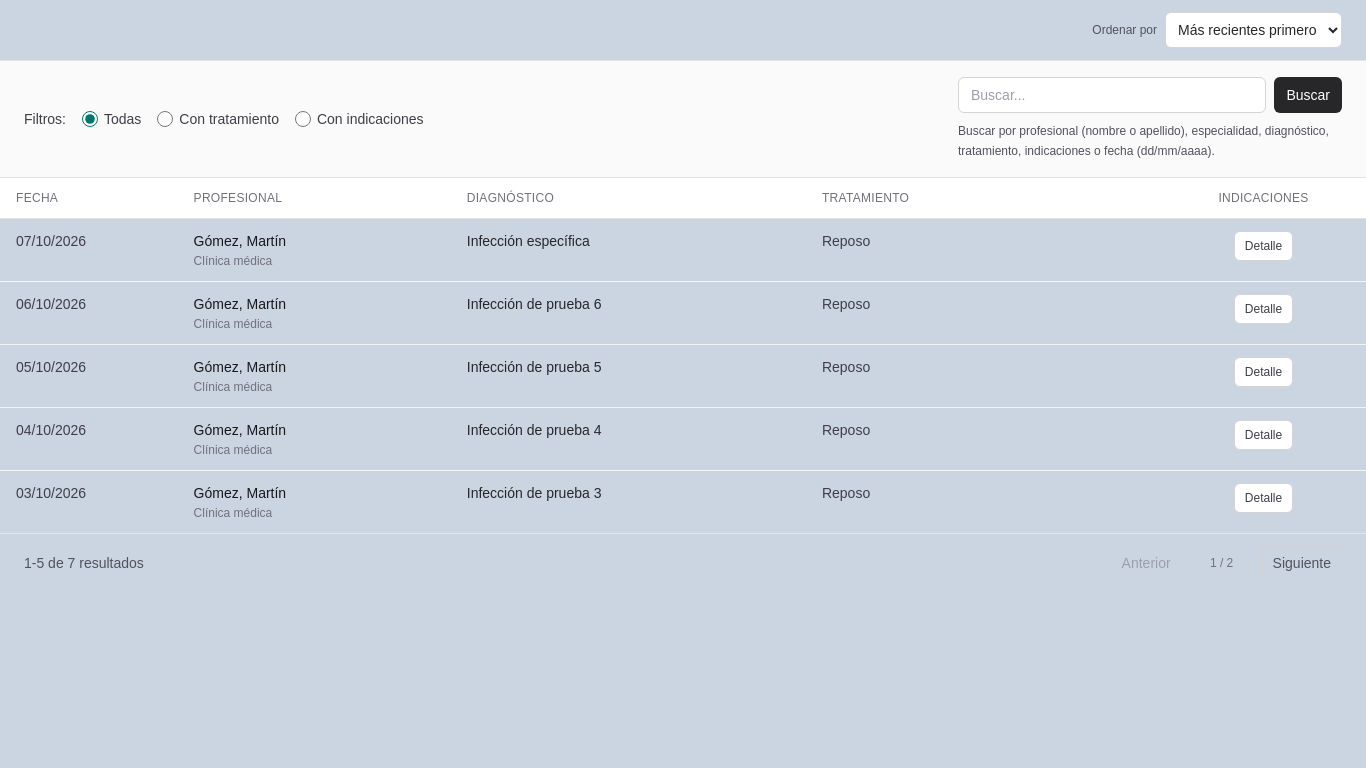
Scenario: SIG-BUG-02: resultados de búsqueda del historial › una búsqueda nueva vuelve a página 1 aunque solo quede un resultado
Click the button "Siguiente" at (1302, 563), box [1262,546,1342,580]
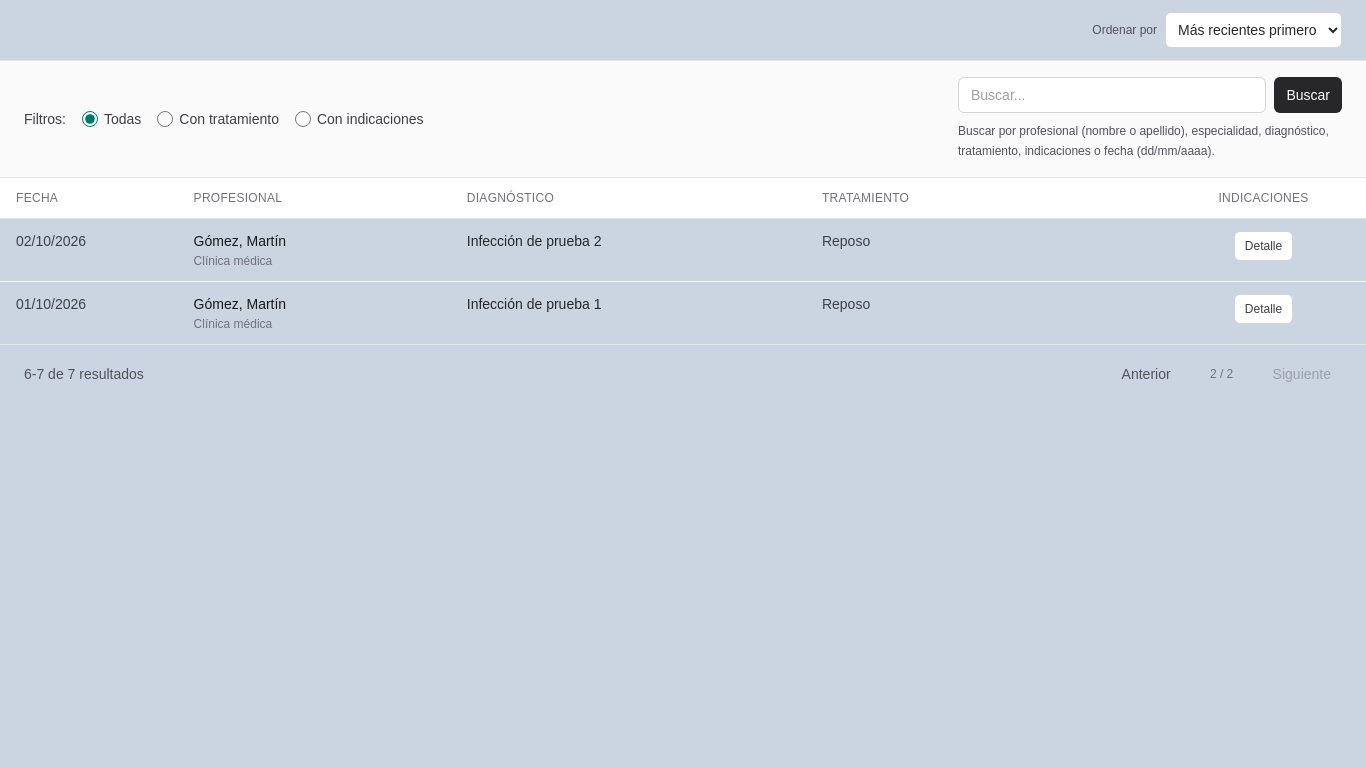
Type "infeccion especifica" into the search field at (1112, 95), box [958,77,1266,113]
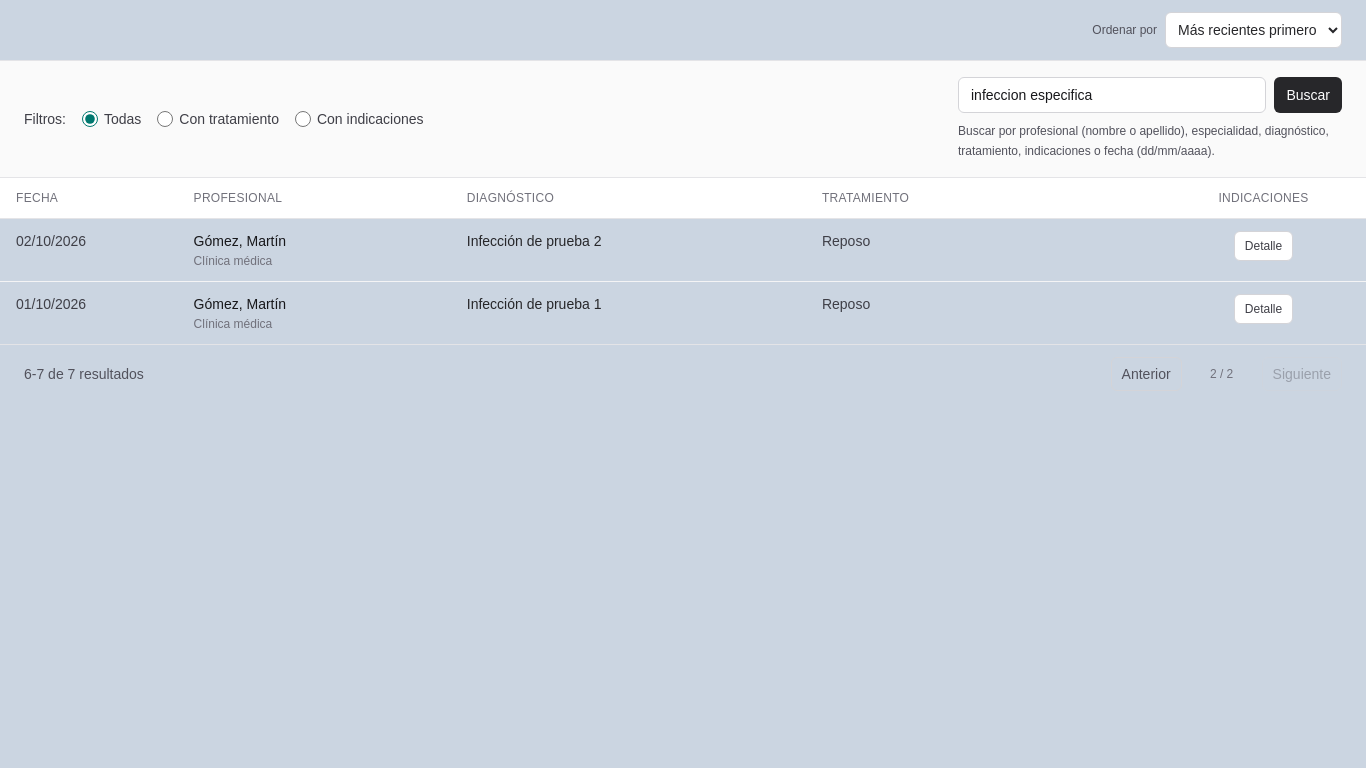
Click the button "Buscar" at (1308, 95), box [1274,77,1342,113]
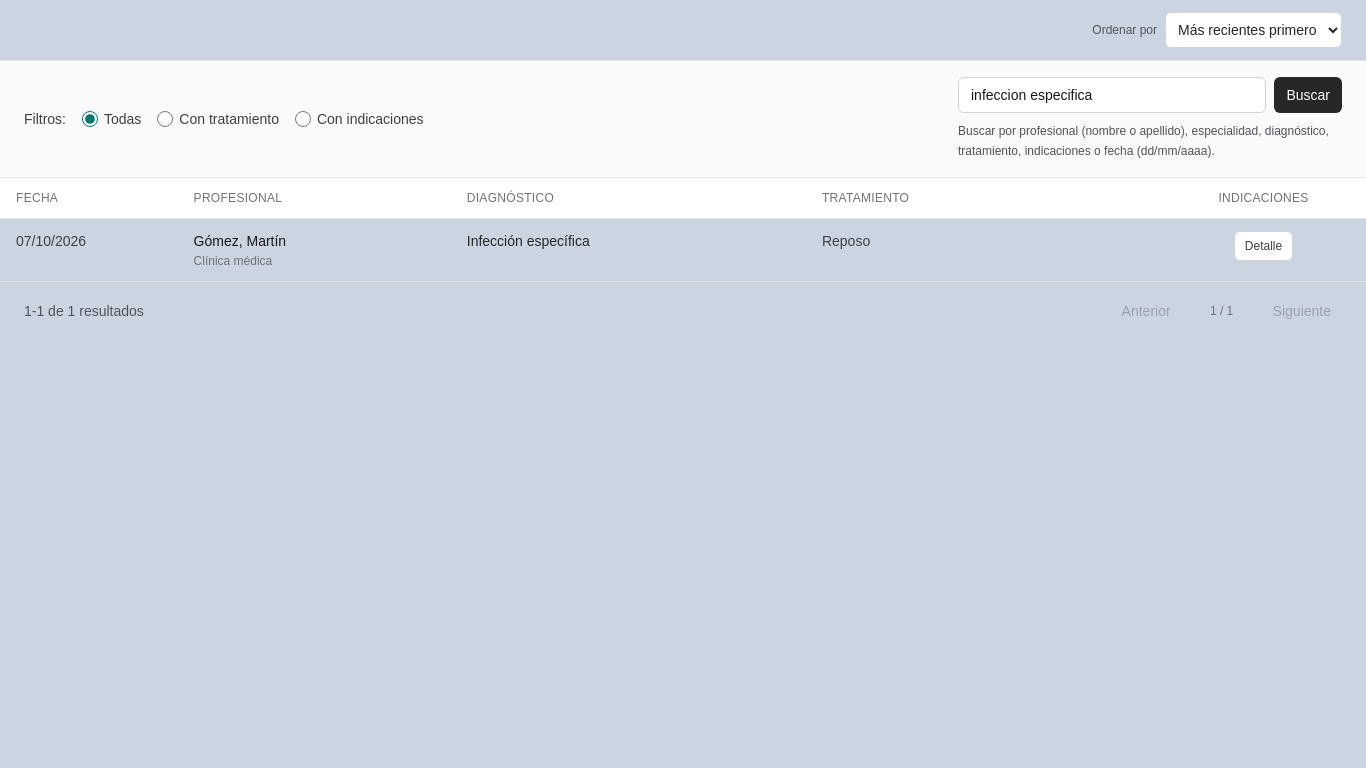
expect the button "Siguiente" is disabled: met, box [1262,294,1342,328]
expect the text "1 / 1" is shown: met, box [1210,304,1233,318]
expect the button "Anterior" is disabled: met, box [1111,294,1182,328]
